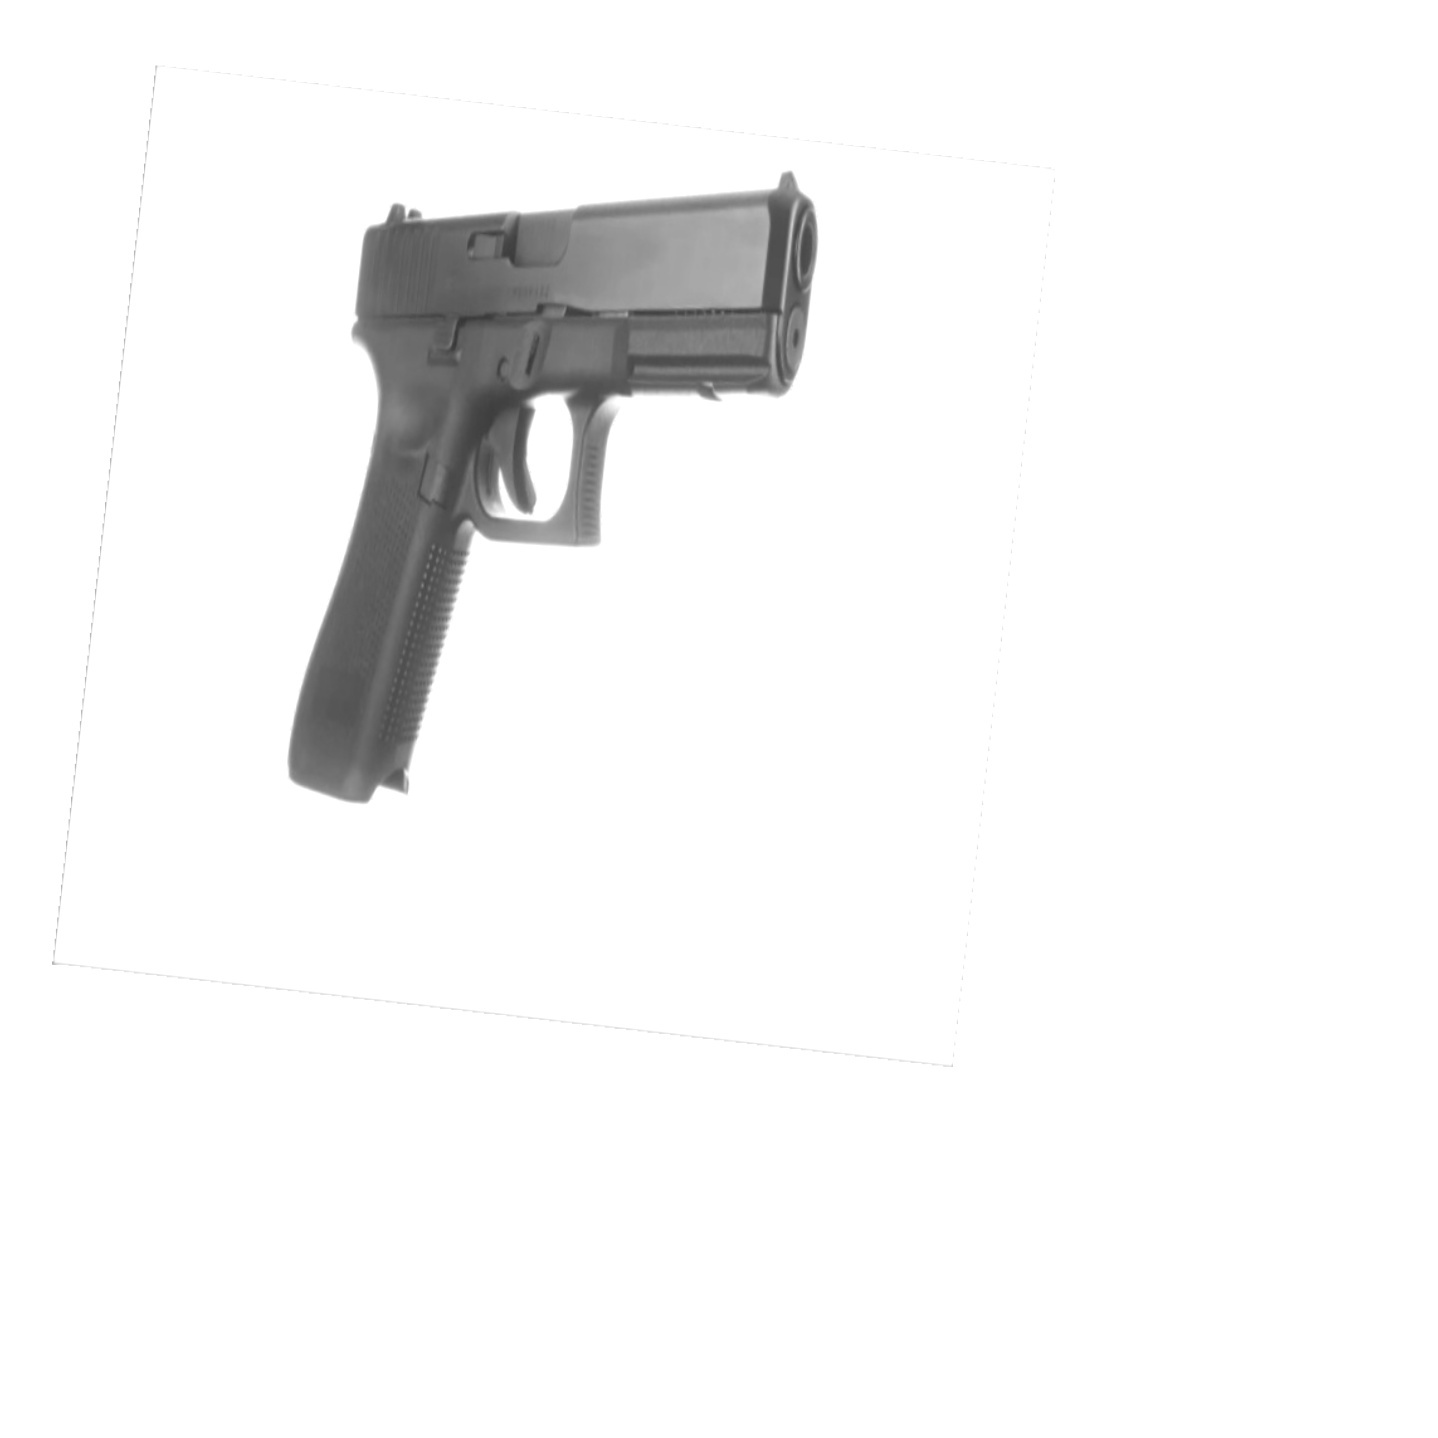gun: (273, 166, 838, 814)
